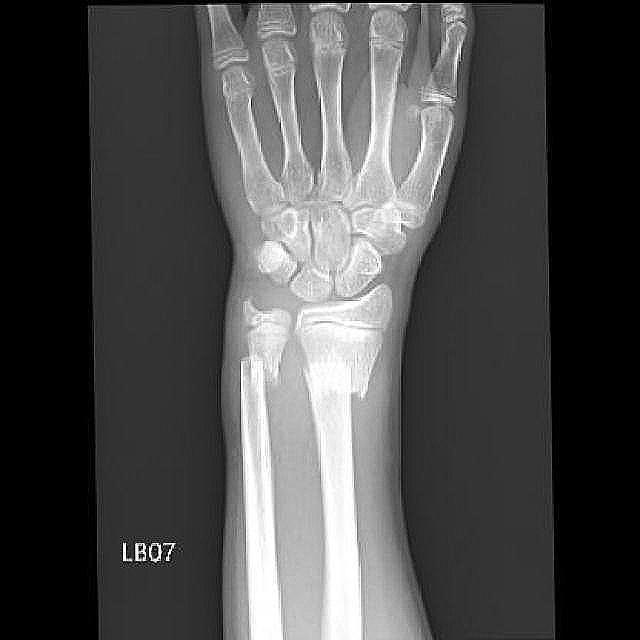bone: (302, 358, 364, 400), (239, 352, 276, 392)
